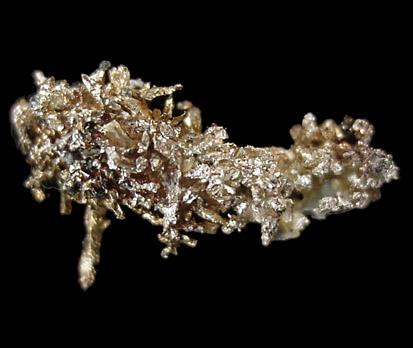silver: (11, 62, 400, 288)
